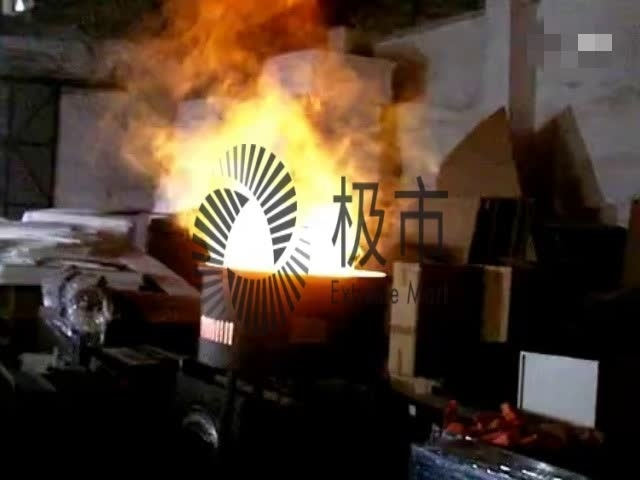fire: (158, 99, 378, 280)
